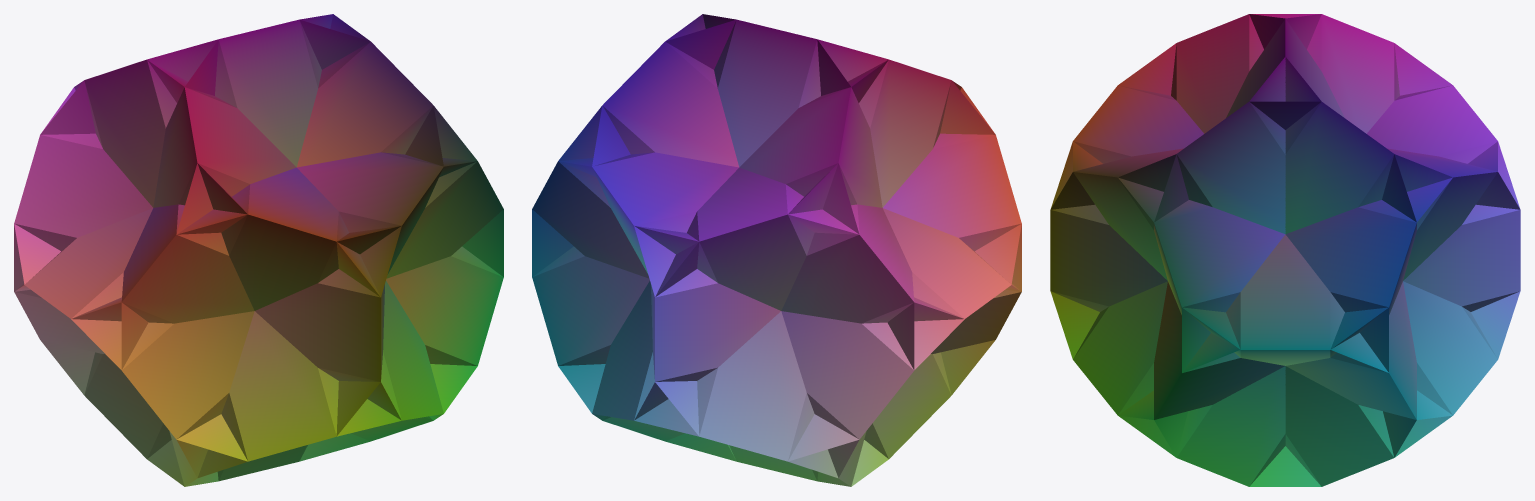
Rendered from zeometry-polyhedra-carved-ball_v1.fbx.
3 views of the same model, side by side, from view 1: azimuth 30°, elevation 25°; view 2: azimuth 150°, elevation 25°; view 3: azimuth 270°, elevation 25° (orthographic). The views are drawn at different scales.
Parts seen in each view (by area): view 1: Carved Ball; view 2: Carved Ball; view 3: Carved Ball.
Part boxes in pixels (x1=…): Carved Ball: x1=14, y1=14, x2=503, y2=486; Carved Ball: x1=532, y1=14, x2=1021, y2=486; Carved Ball: x1=1050, y1=14, x2=1520, y2=486.
Size of the model in its own units: 0.5 by 0.5 by 0.5.
